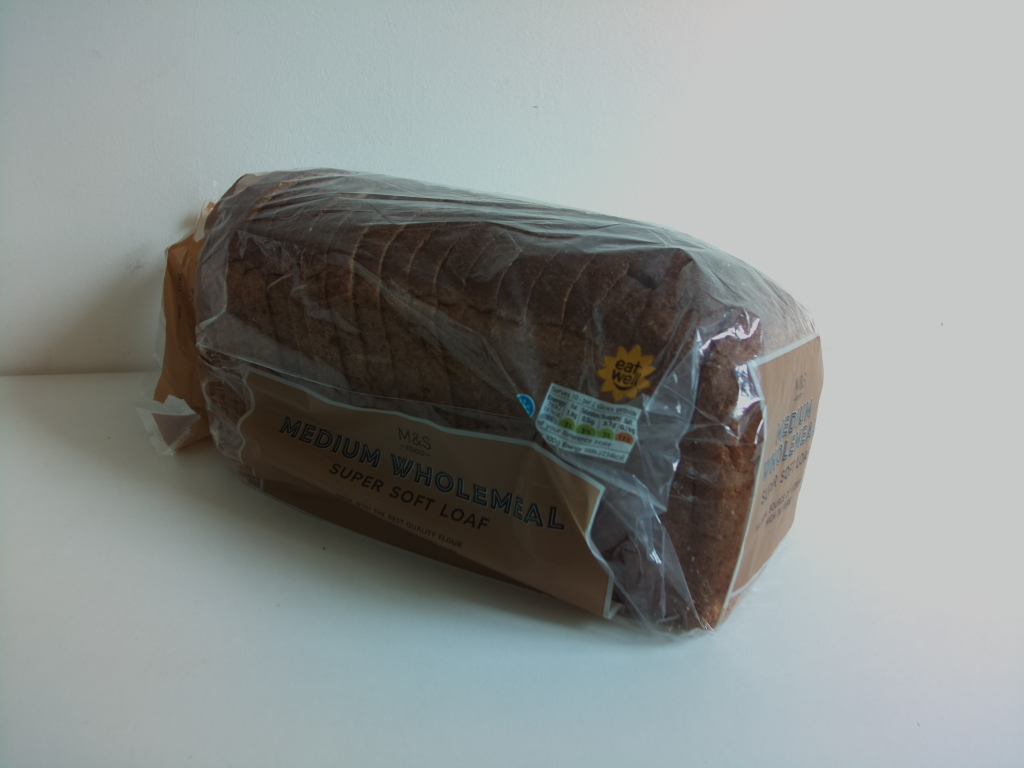bread: (152, 159, 829, 640)
